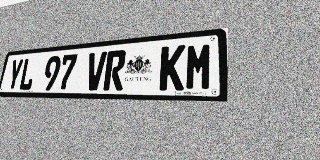7: (57, 54, 78, 90)
9: (42, 55, 62, 90)
K: (159, 45, 186, 90)
L: (18, 57, 37, 90)
M: (184, 42, 213, 90)
R: (103, 50, 127, 90)
V: (84, 51, 107, 90)
Y: (6, 59, 24, 90)
